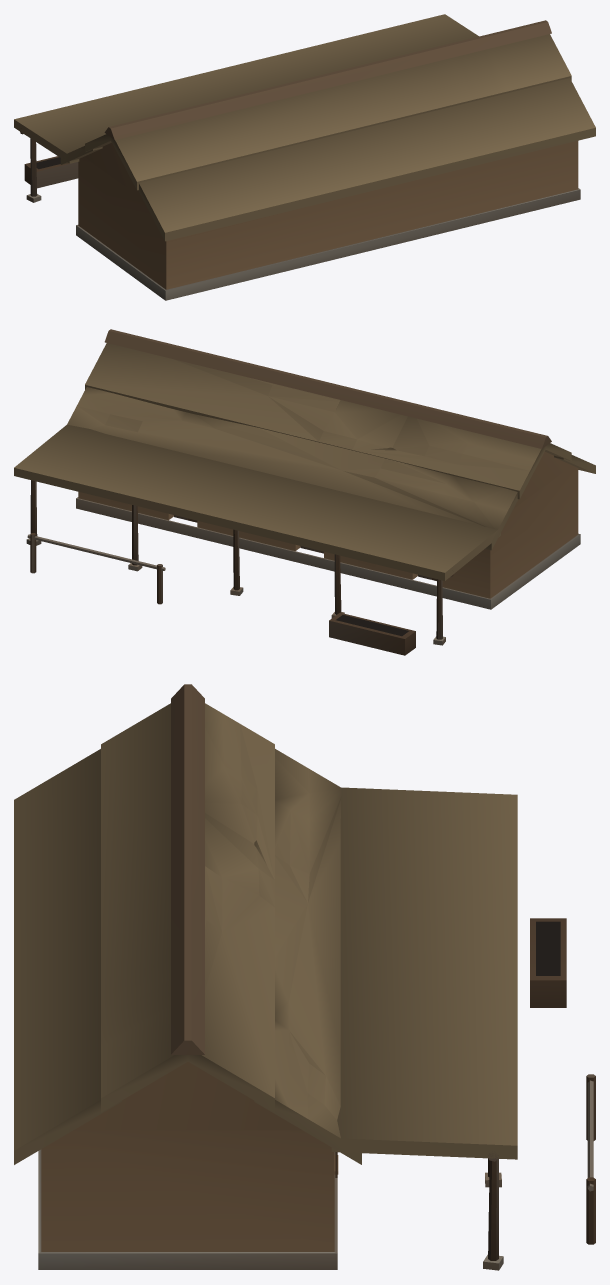
File: casa_posta_b_lod.glb
3 renders of one model, top to bottom at view 1: azimuth 30°, elevation 25°; view 2: azimuth 150°, elevation 25°; view 3: azimuth 270°, elevation 25°, orthographic. The views are drawn at different scales.
Visible parts, largest first — view 1: casa_posta_b; view 2: casa_posta_b; view 3: casa_posta_b.
Part boxes in pixels (x1,y1,x2,y2): casa_posta_b: (14,14,595,300); casa_posta_b: (14,329,595,655); casa_posta_b: (14,684,595,1270).
Size of the model in its own units: 13.8 by 4.31 by 9.53.
